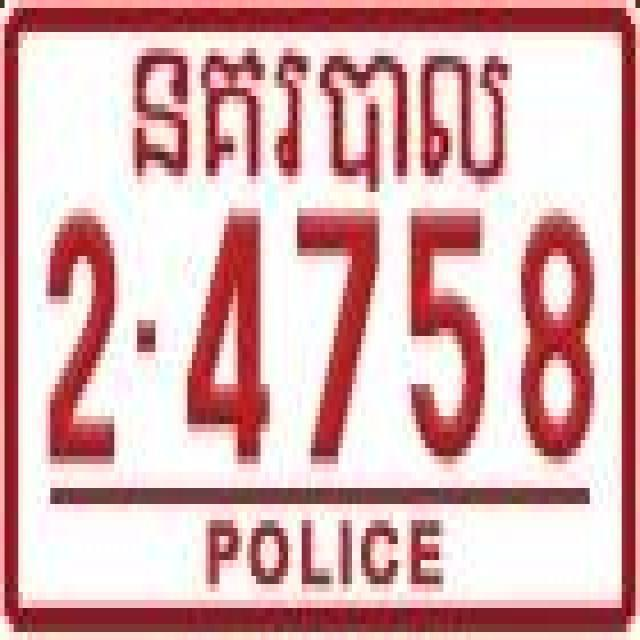Police: (128, 40, 518, 196)
